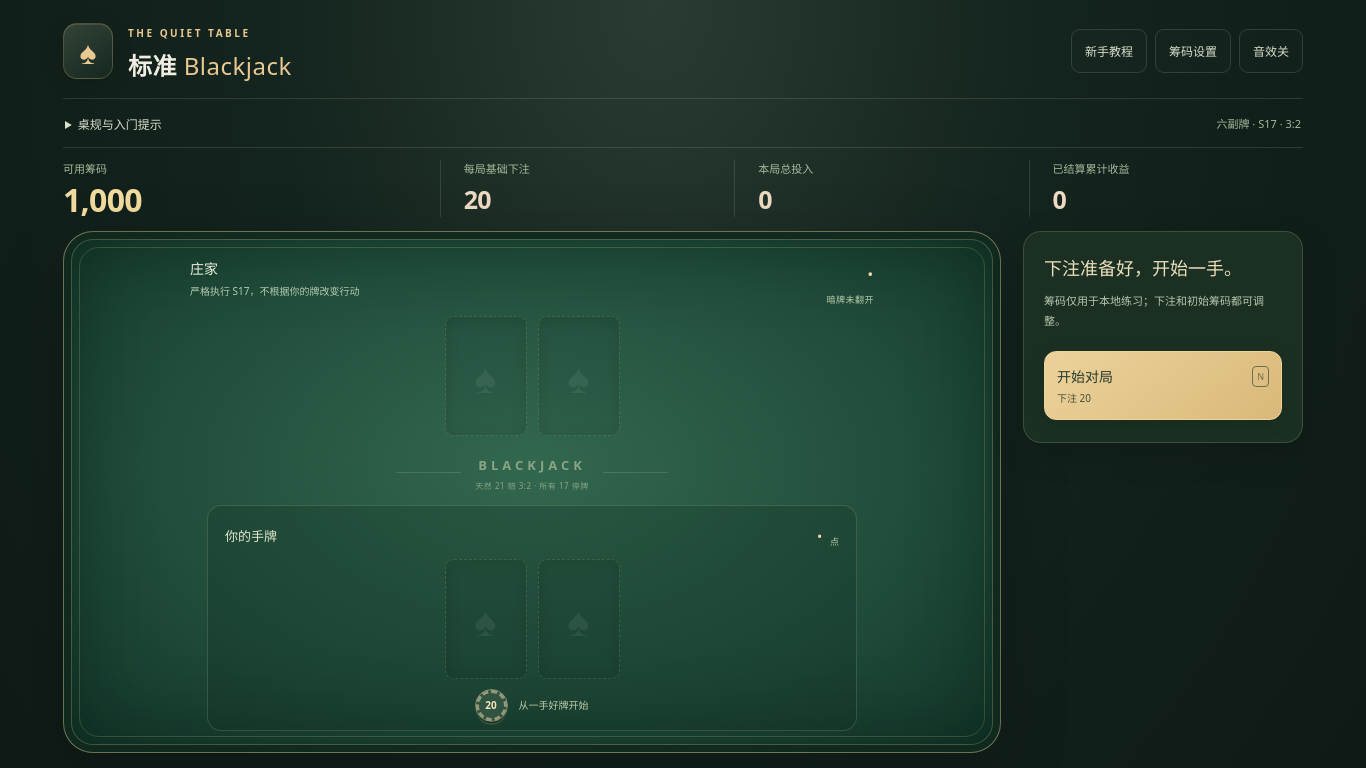
Test: standard table controls and local training data › changes a wager without resetting balance; rebuilding needs confirmation
The image size is (1366, 768).
Click the button "筹码设置" at [1193, 51], box [1155,29,1231,73]
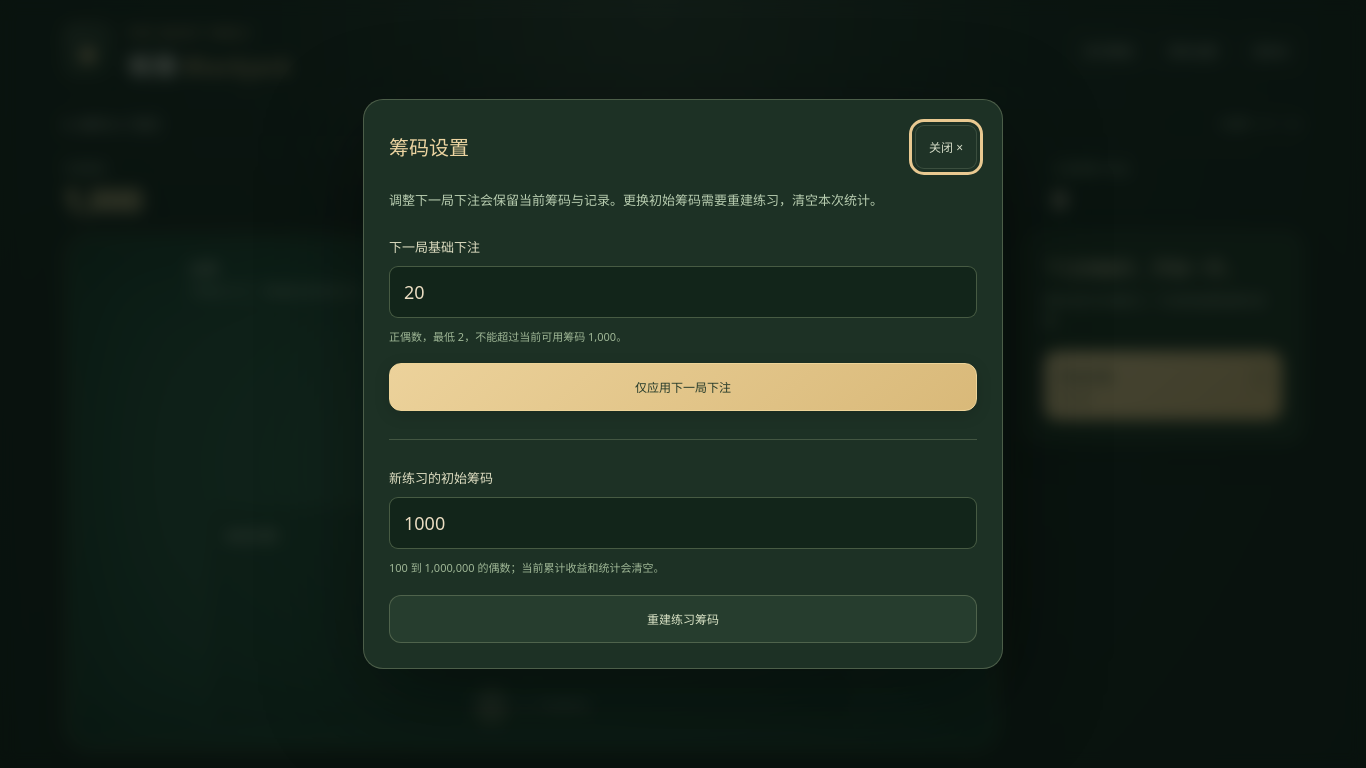
Replace the text in the number field labelled "下一局基础下注 正偶数，最低 2，不能超过当前可用筹码 1,000。" with "40" at [683, 292], box [389,266,977,318]
Click the button "仅应用下一局下注" at [683, 387], box [389,363,977,411]
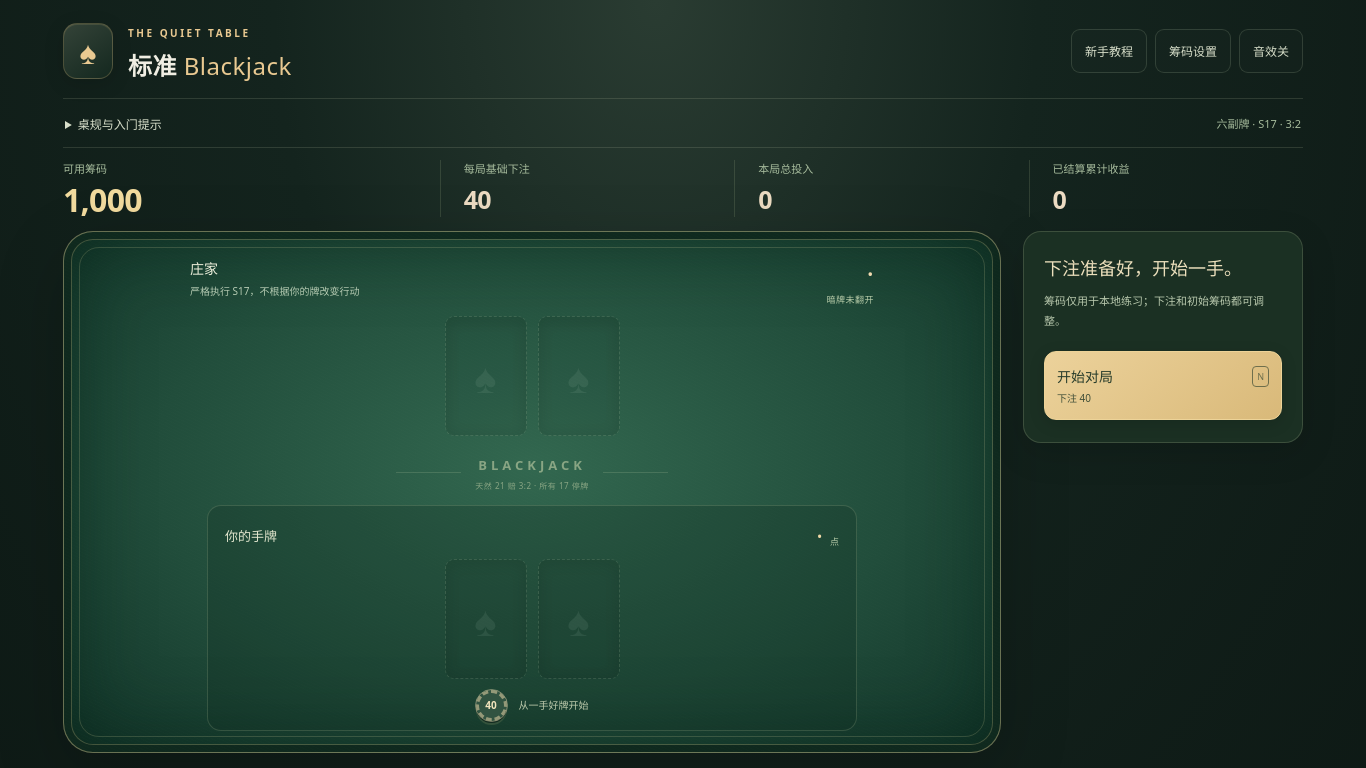
Click the button "筹码设置" at [1193, 51], box [1155,29,1231,73]
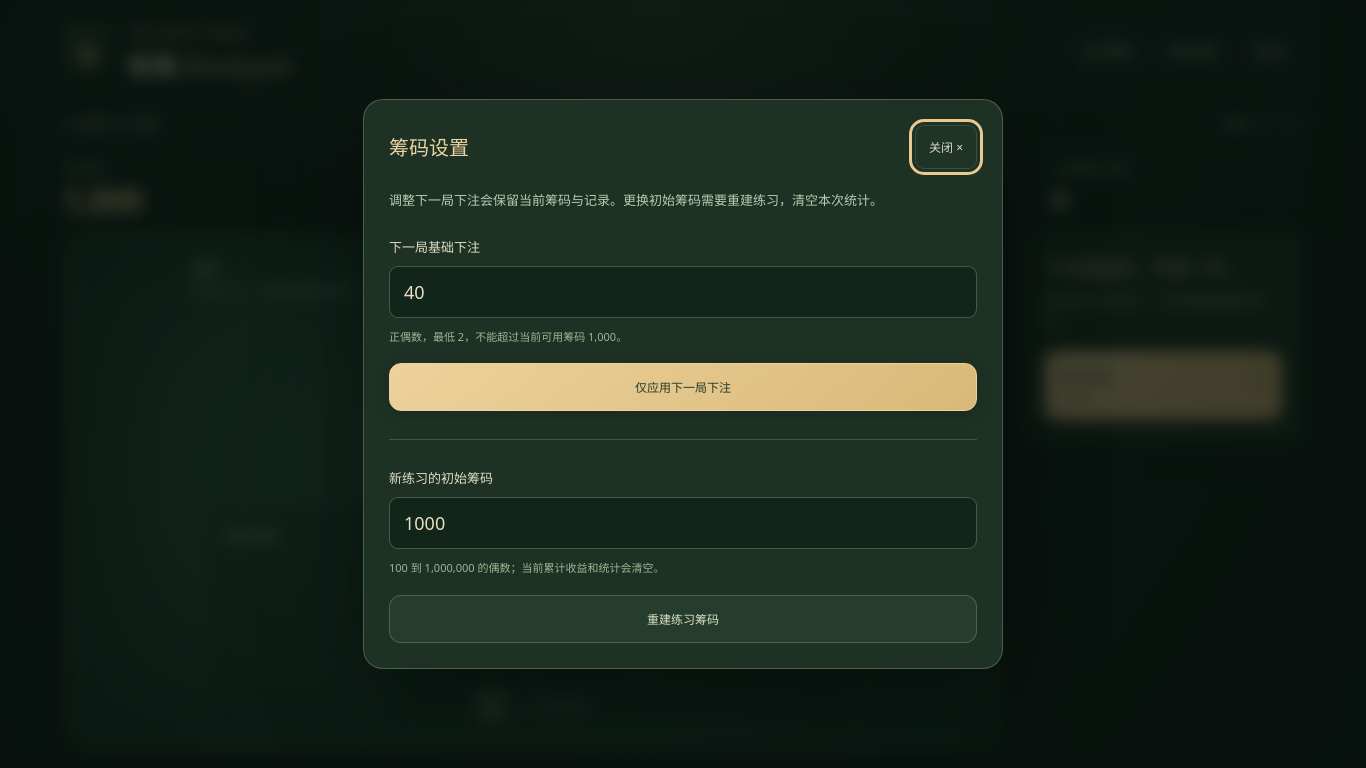
Replace the text in the number field labelled "新练习的初始筹码 100 到 1,000,000 的偶数；当前累计收益和统计会清空。" with "5000" at [683, 523], box [389,497,977,549]
Click the button "重建练习筹码" at [683, 619], box [389,595,977,643]
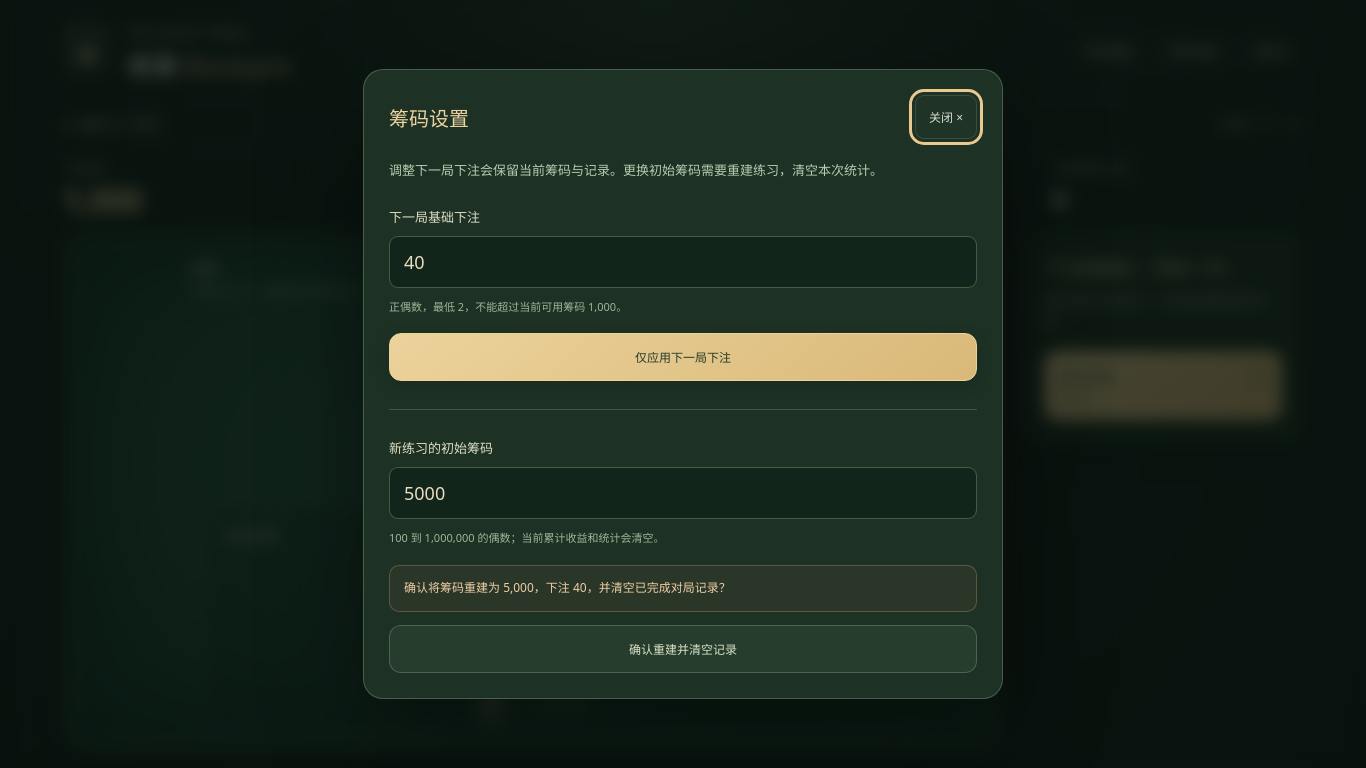
Check: the dialog shows "确认将筹码重建为 5,000", box [363,69,1003,699]
Click the button "确认重建并清空记录" at [683, 649], box [389,625,977,673]
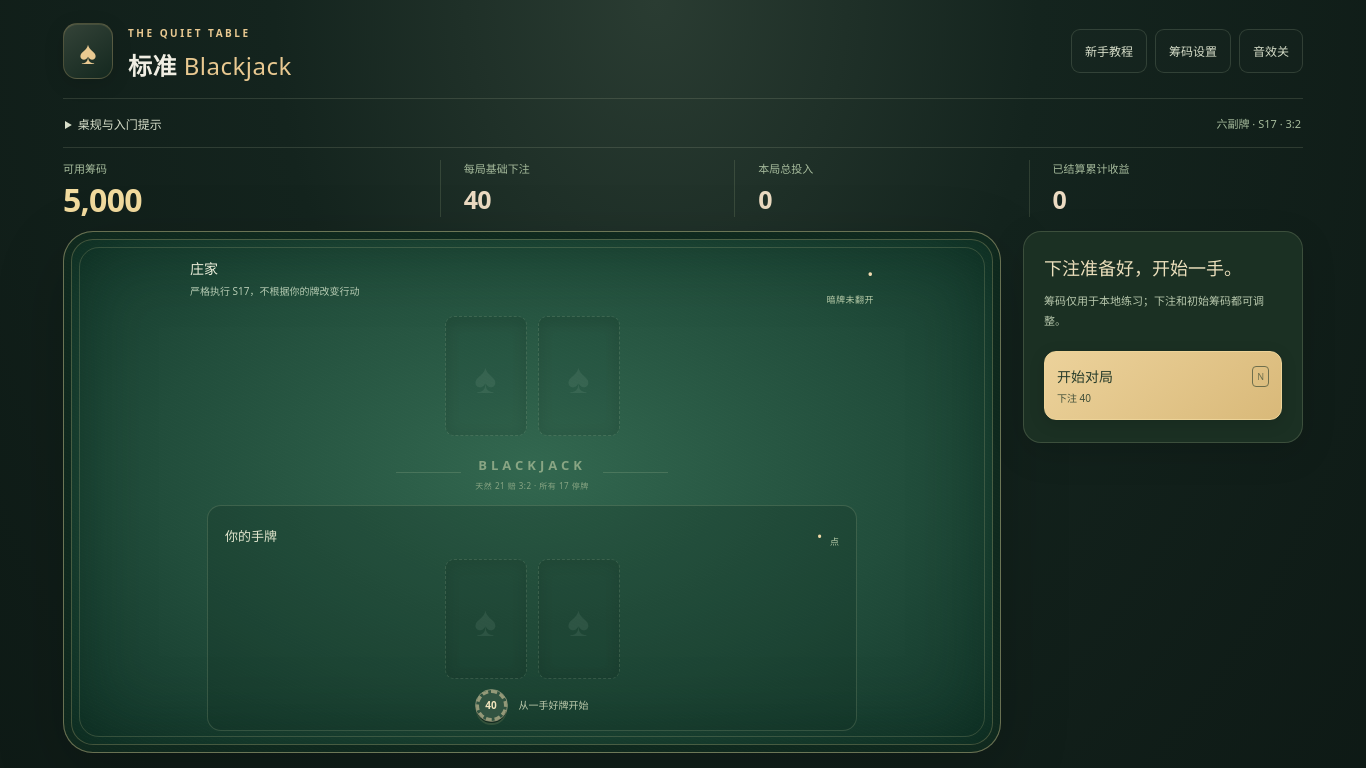
Click the button "开始对局 下注 40 N" at [1163, 385], box [1044,351,1282,420]
Wait 1800 ms
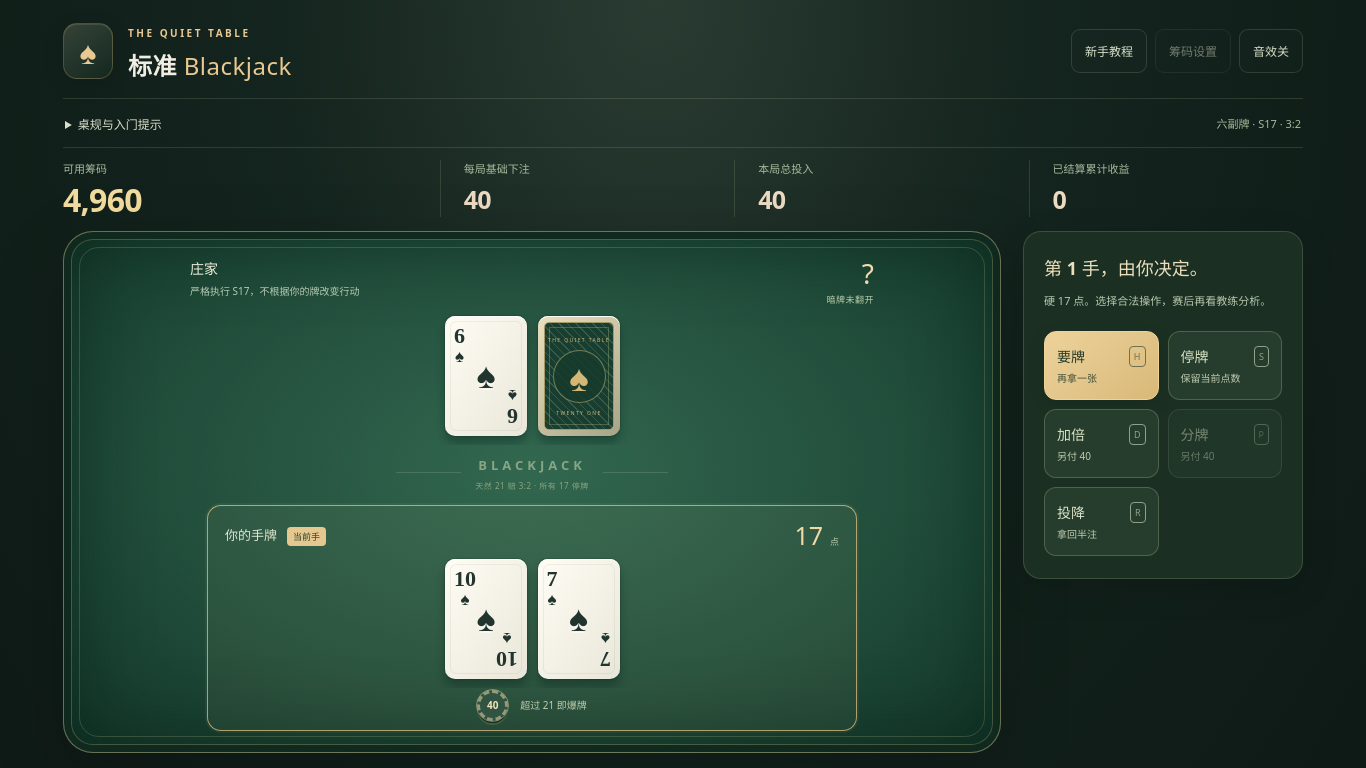
Check: the button "筹码设置" is disabled, box [1155,29,1231,73]
